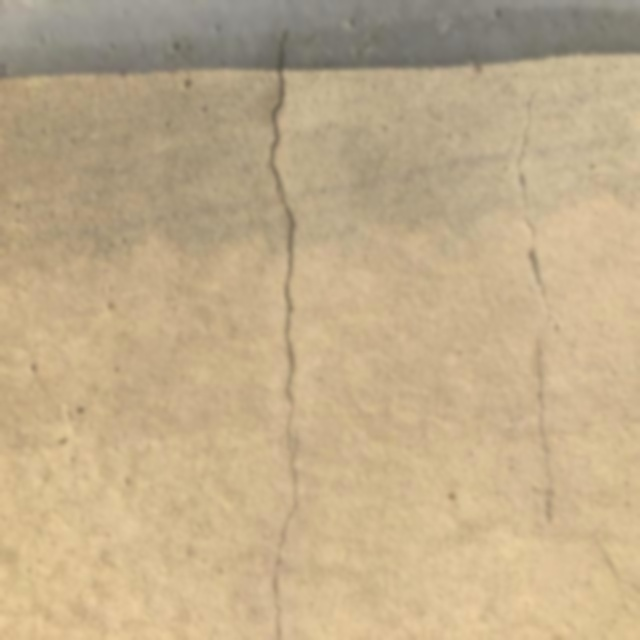SurfaceCrack: (484, 66, 627, 639), (227, 72, 337, 639)
